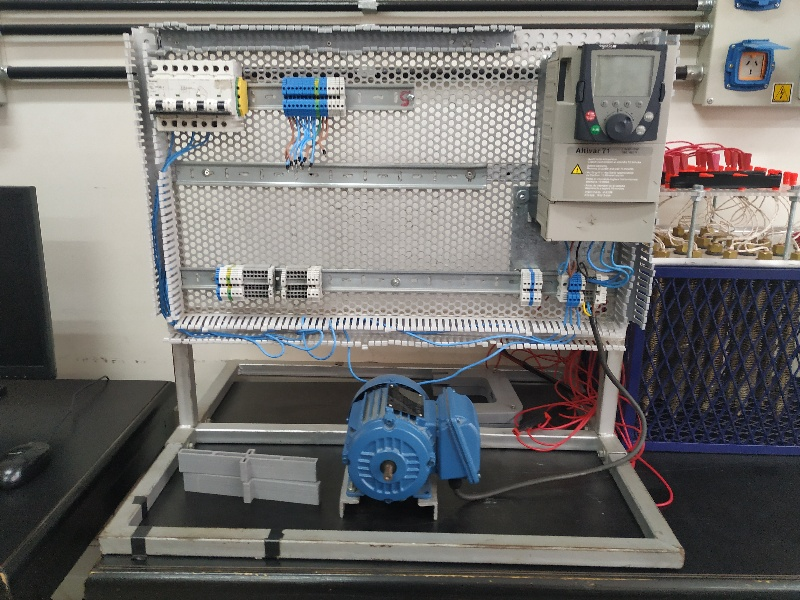Tablero 0: (121, 19, 676, 341)
